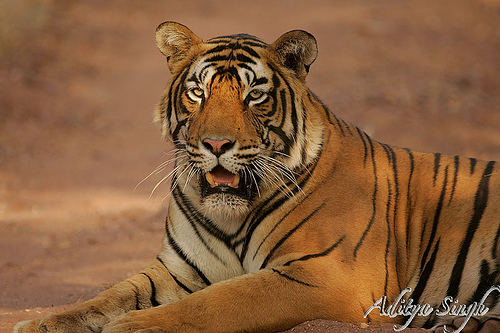Tigre: (127, 21, 493, 314)
